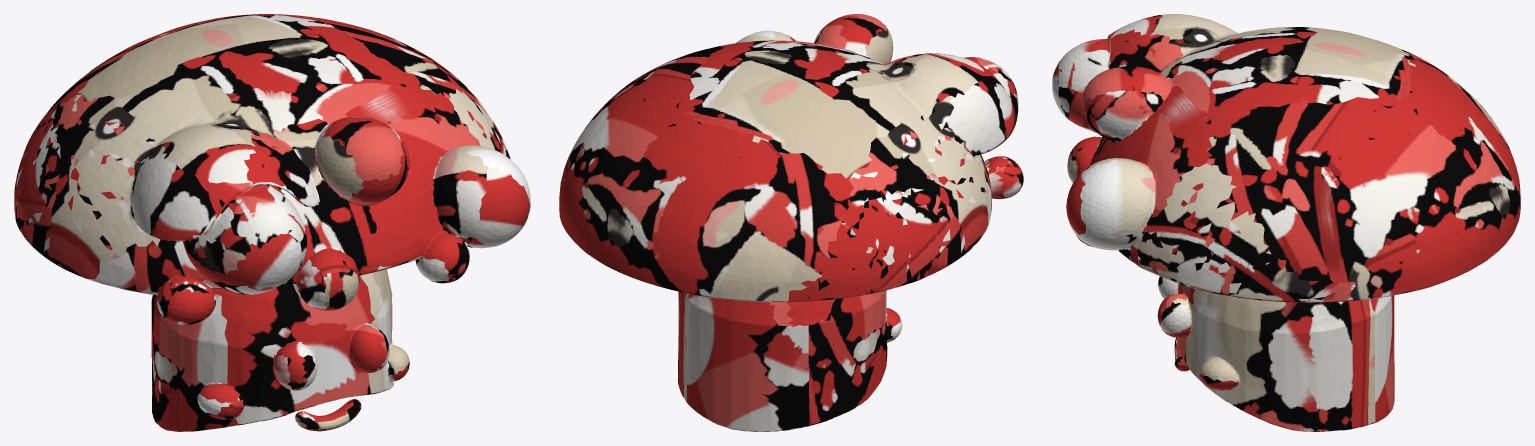
File: mesh-mushroom-01.glb
3 renders of one model, left to right at view 1: azimuth 30°, elevation 25°; view 2: azimuth 150°, elevation 25°; view 3: azimuth 270°, elevation 25°, orthographic. The views are drawn at different scales.
Visible parts, largest first — view 1: geometry_0; view 2: geometry_0; view 3: geometry_0.
Part boxes in pixels (bbox=[...]): geometry_0: bbox=[14, 14, 530, 431]; geometry_0: bbox=[559, 14, 1023, 431]; geometry_0: bbox=[1052, 14, 1520, 431].
Bounding box in the file's own units: 1.94 × 1.62 × 1.99.
Materials: 1 (1 with a texture image).
